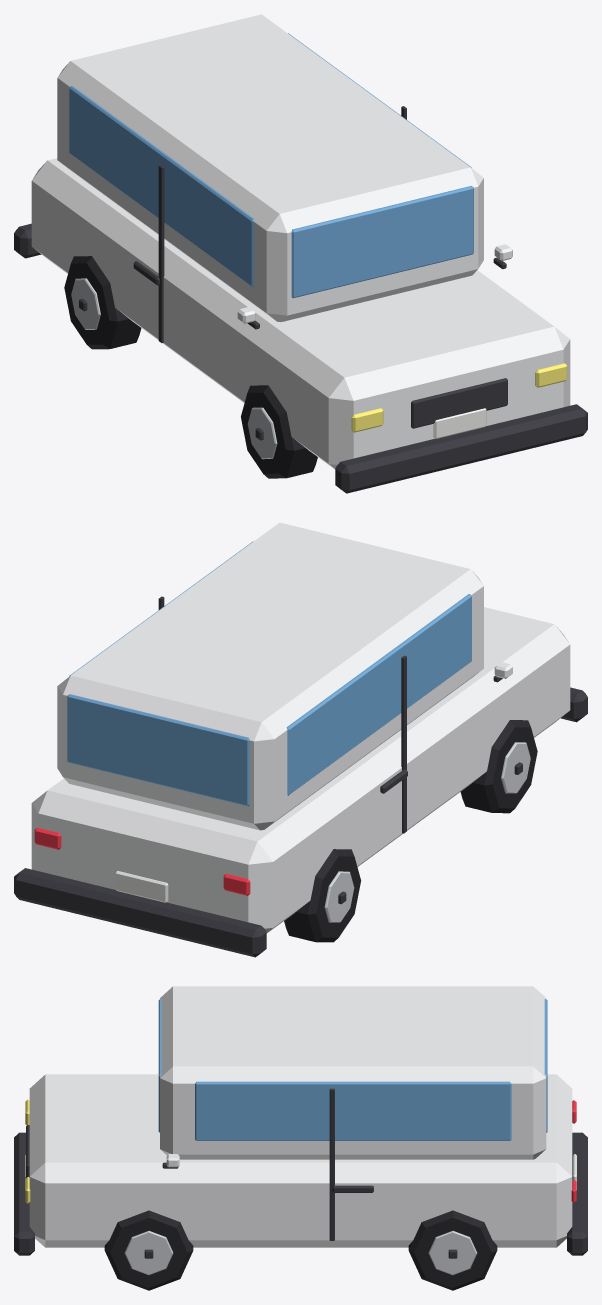
The model's file is WhiteMinivan.fbx.
3 renders of one model, top to bottom at view 1: azimuth 30°, elevation 25°; view 2: azimuth 150°, elevation 25°; view 3: azimuth 270°, elevation 25°, orthographic. The views are drawn at different scales.
Parts seen in each view (by area): view 1: WhiteMinivan, WhiteMinivan_WheelBR, WhiteMinivan_WheelFR; view 2: WhiteMinivan, WhiteMinivan_WheelBR, WhiteMinivan_WheelFR; view 3: WhiteMinivan, WhiteMinivan_WheelBL, WhiteMinivan_WheelFL.
Part boxes in pixels (x1=…): WhiteMinivan: x1=14, y1=14, x2=587, y2=493; WhiteMinivan_WheelBR: x1=64, y1=256, x2=141, y2=349; WhiteMinivan_WheelFR: x1=241, y1=385, x2=317, y2=478; WhiteMinivan: x1=14, y1=522, x2=587, y2=957; WhiteMinivan_WheelBR: x1=284, y1=849, x2=361, y2=942; WhiteMinivan_WheelFR: x1=460, y1=720, x2=537, y2=813; WhiteMinivan: x1=14, y1=986, x2=587, y2=1255; WhiteMinivan_WheelBL: x1=408, y1=1210, x2=497, y2=1290; WhiteMinivan_WheelFL: x1=104, y1=1210, x2=193, y2=1290.
Bounding box in the file's own units: 5.15 × 4.52 × 11.
1 material, 1 textured.
